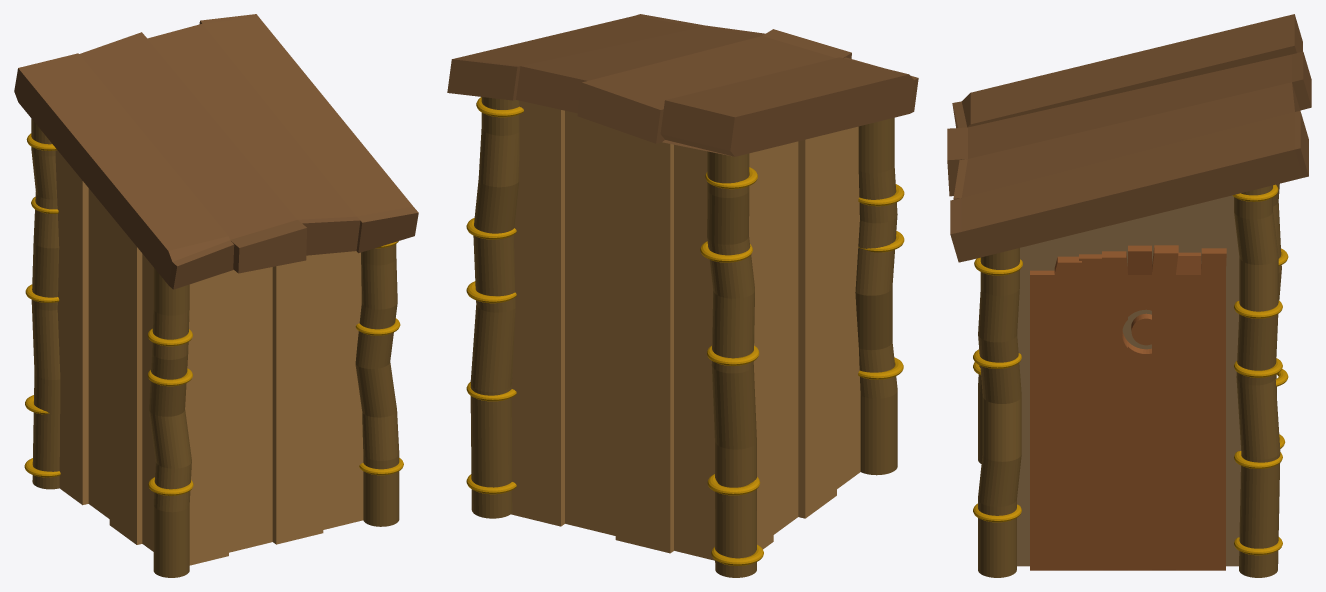
The model's file is wchok.fbx.
3 views of the same model, side by side, from view 1: azimuth 30°, elevation 25°; view 2: azimuth 150°, elevation 25°; view 3: azimuth 270°, elevation 25° (orthographic). The views are drawn at different scales.
Parts seen in each view (by area): view 1: Cube.004, Cube.001, Cylinder.002, Torus.015; view 2: Cube.004, Cylinder.002, Cube.001, Torus.015; view 3: Cube.002, Cube.001, Cylinder.002, Cube, Torus.015.
Part boxes in pixels (box(x1,y1,x2,y2)): Cube.004: box(55, 150, 363, 565); Cube.001: box(14, 14, 418, 289); Cylinder.002: box(31, 118, 399, 577); Torus.015: box(24, 133, 403, 495); Cube.004: box(511, 100, 860, 560); Cylinder.002: box(470, 97, 897, 577); Cube.001: box(447, 14, 918, 156); Torus.015: box(466, 97, 904, 565); Cube.002: box(1030, 245, 1226, 570); Cube.001: box(947, 14, 1311, 262); Cylinder.002: box(978, 183, 1281, 577); Cube: box(1017, 195, 1241, 566); Torus.015: box(973, 184, 1288, 555).
Bounding box in the file's own units: 4.79 × 7.45 × 5.58.
